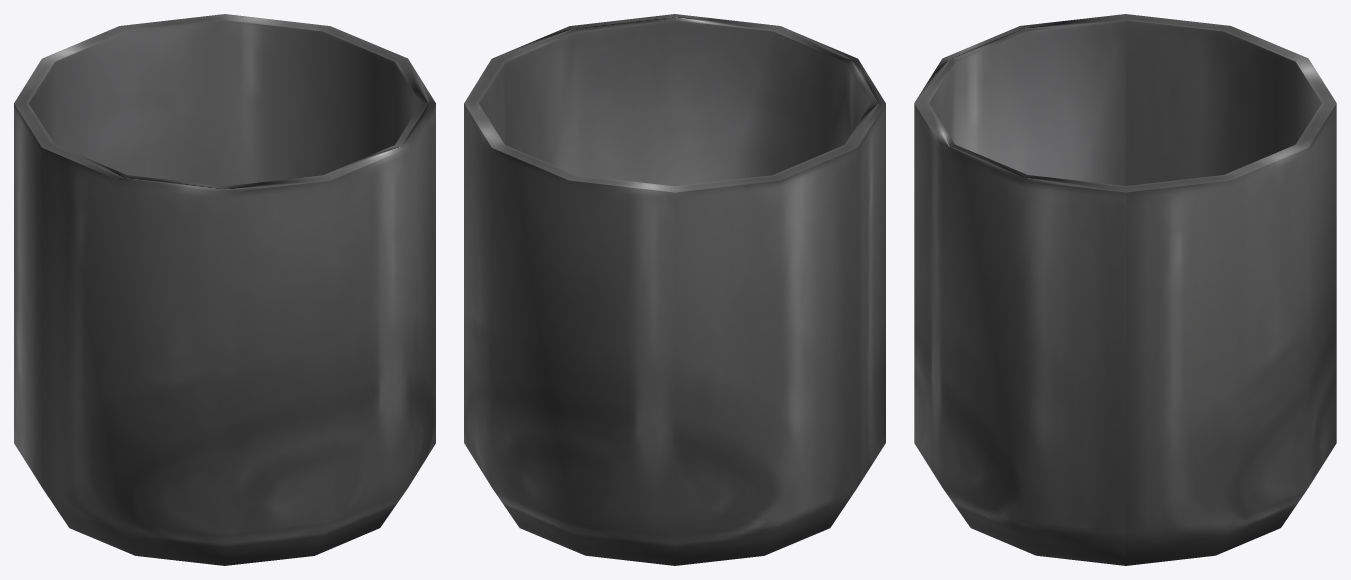
The model's file is PiErSenGongYu_01_beizi_01.FBX.
3 renders of one model, left to right at view 1: azimuth 30°, elevation 25°; view 2: azimuth 150°, elevation 25°; view 3: azimuth 270°, elevation 25°, orthographic.
Parts seen in each view (by area): view 1: PiErSenDeGongYu_01_beizi_01; view 2: PiErSenDeGongYu_01_beizi_01; view 3: PiErSenDeGongYu_01_beizi_01.
Boxes of the visible parts, x1,y1,x2,y2 form: PiErSenDeGongYu_01_beizi_01: (14, 14, 435, 565); PiErSenDeGongYu_01_beizi_01: (464, 14, 885, 565); PiErSenDeGongYu_01_beizi_01: (914, 14, 1336, 565).
Size of the model in its own units: 30.73 by 31.05 by 30.73.
